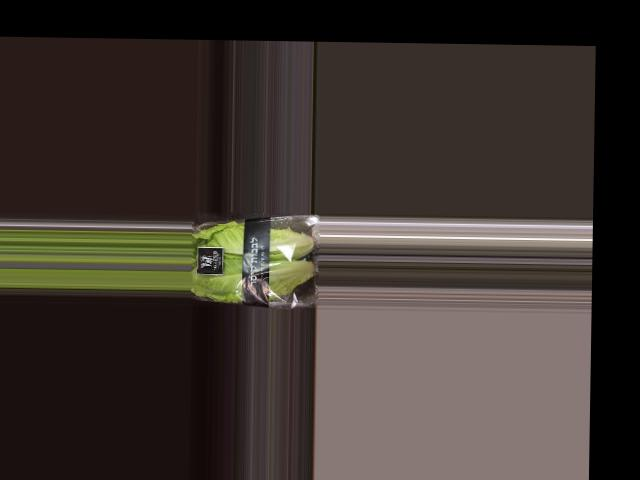lettuce: (191, 213, 320, 302)
